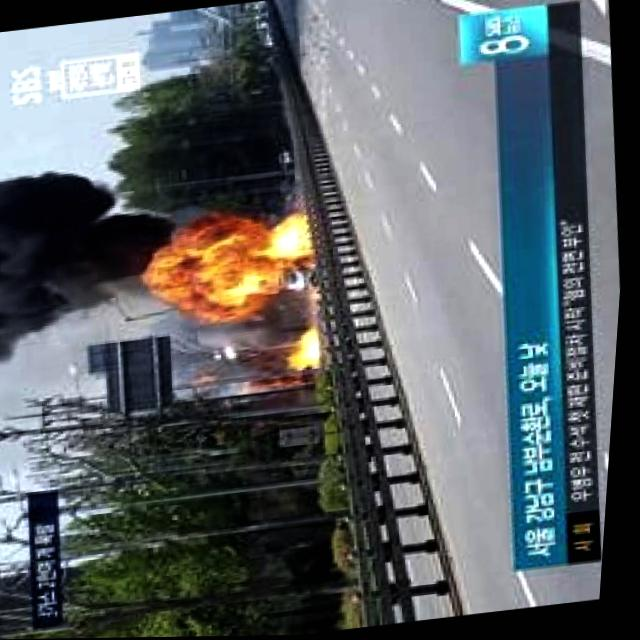helmet: (188, 211, 280, 322), (151, 242, 201, 309), (271, 207, 314, 268), (288, 324, 326, 369)
no_helmet: (0, 157, 163, 361)
